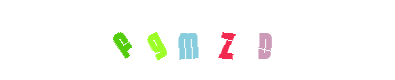D: (211, 0, 291, 80)
F: (100, 0, 180, 80)
G: (147, 0, 227, 80)
M: (157, 0, 237, 80)
Z: (187, 0, 267, 80)
